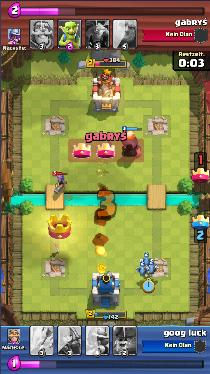ally_giant: (119, 128, 141, 157)
ally_minion: (147, 263, 156, 275), (143, 255, 150, 267), (139, 265, 146, 275)
enemy_fireball: (96, 246, 108, 273)
enemy_musketeer: (54, 172, 67, 194)
